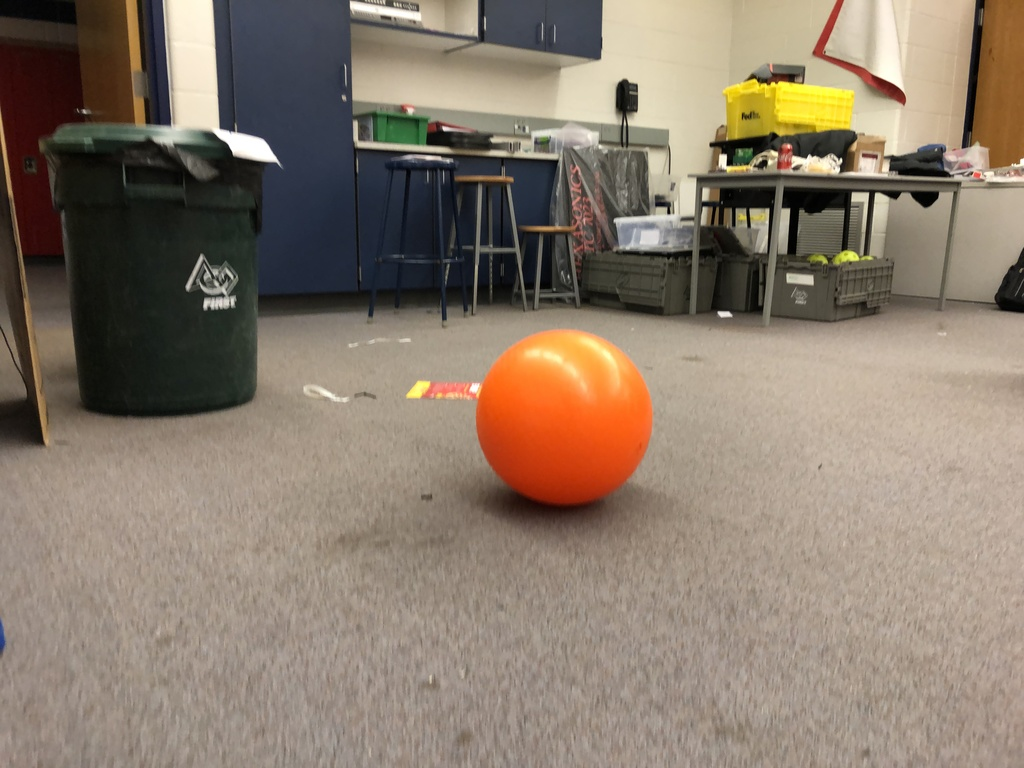cargo: (473, 320, 669, 517)
